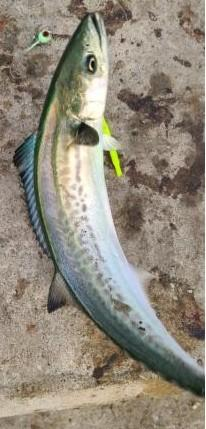fish: (13, 13, 204, 399)
